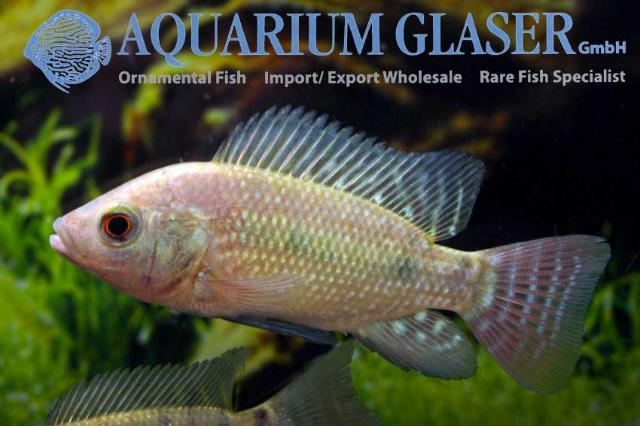Mulut: (31, 192, 85, 282)
Sirip Anal: (349, 300, 483, 391)
Sirip Dada: (188, 260, 312, 328)
Sirip Ekor: (463, 216, 627, 412)
Sirip Perut: (218, 307, 352, 367)
Sirip Punggung: (207, 93, 497, 246)
